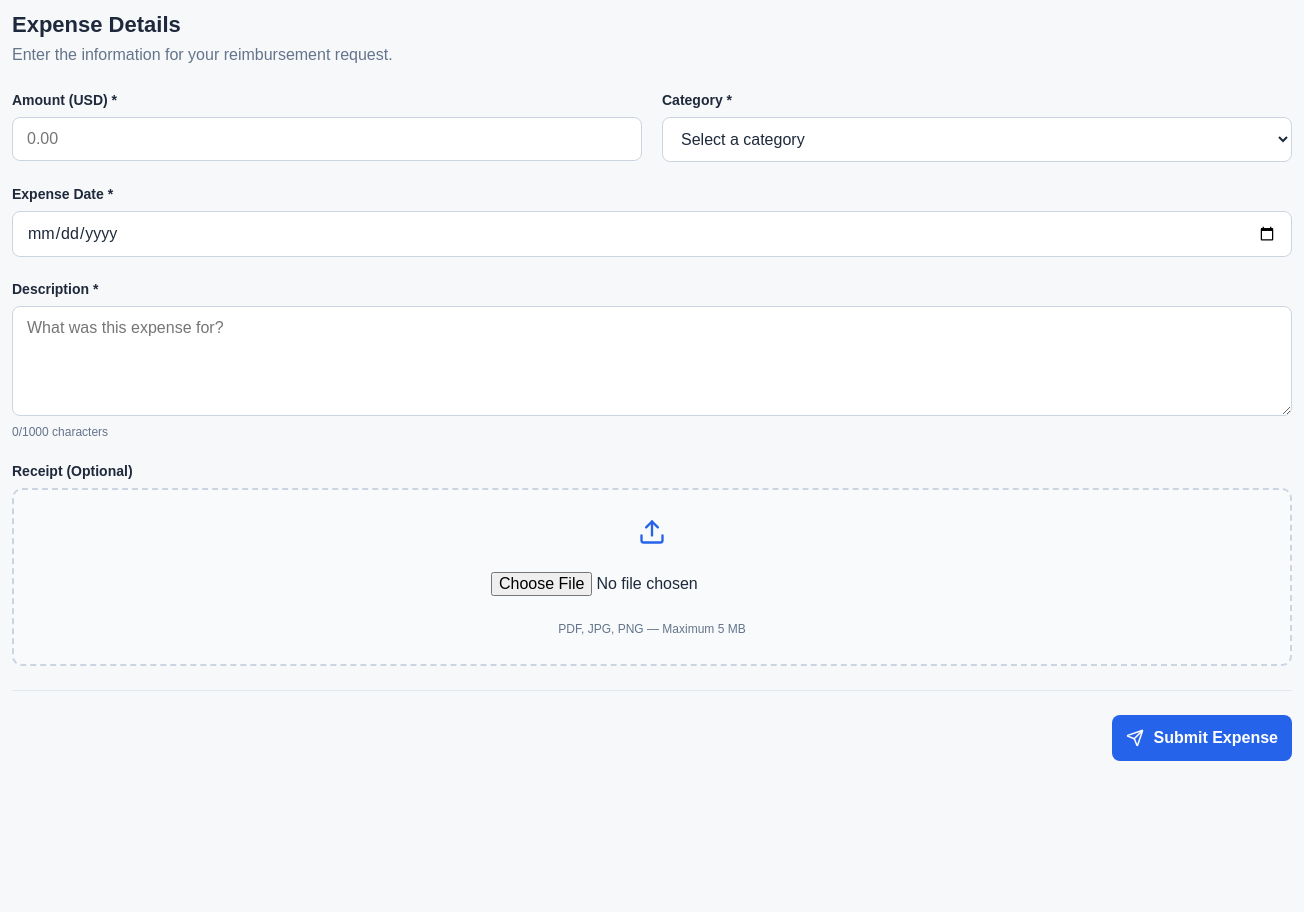
ExpenseForm › shows an error when the API rejects the submission
The image size is (1304, 912).
Type "25.50" into the number field labelled "Amount (USD) *" at {"x": 327, "y": 139}, box [12,117,642,161]
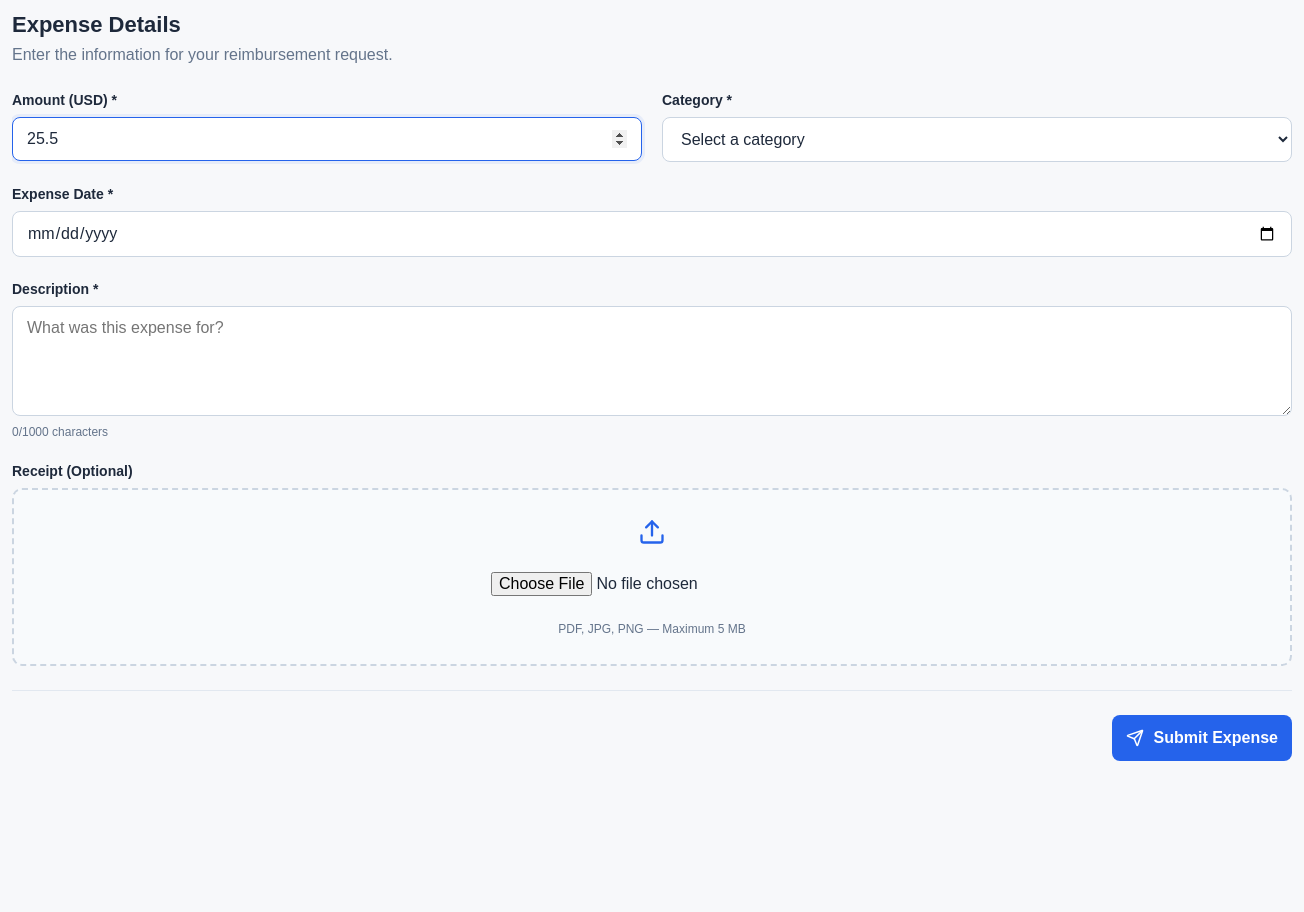
Select "Meals" in the dropdown labelled "Category *" at {"x": 977, "y": 140}, box [662,117,1292,162]
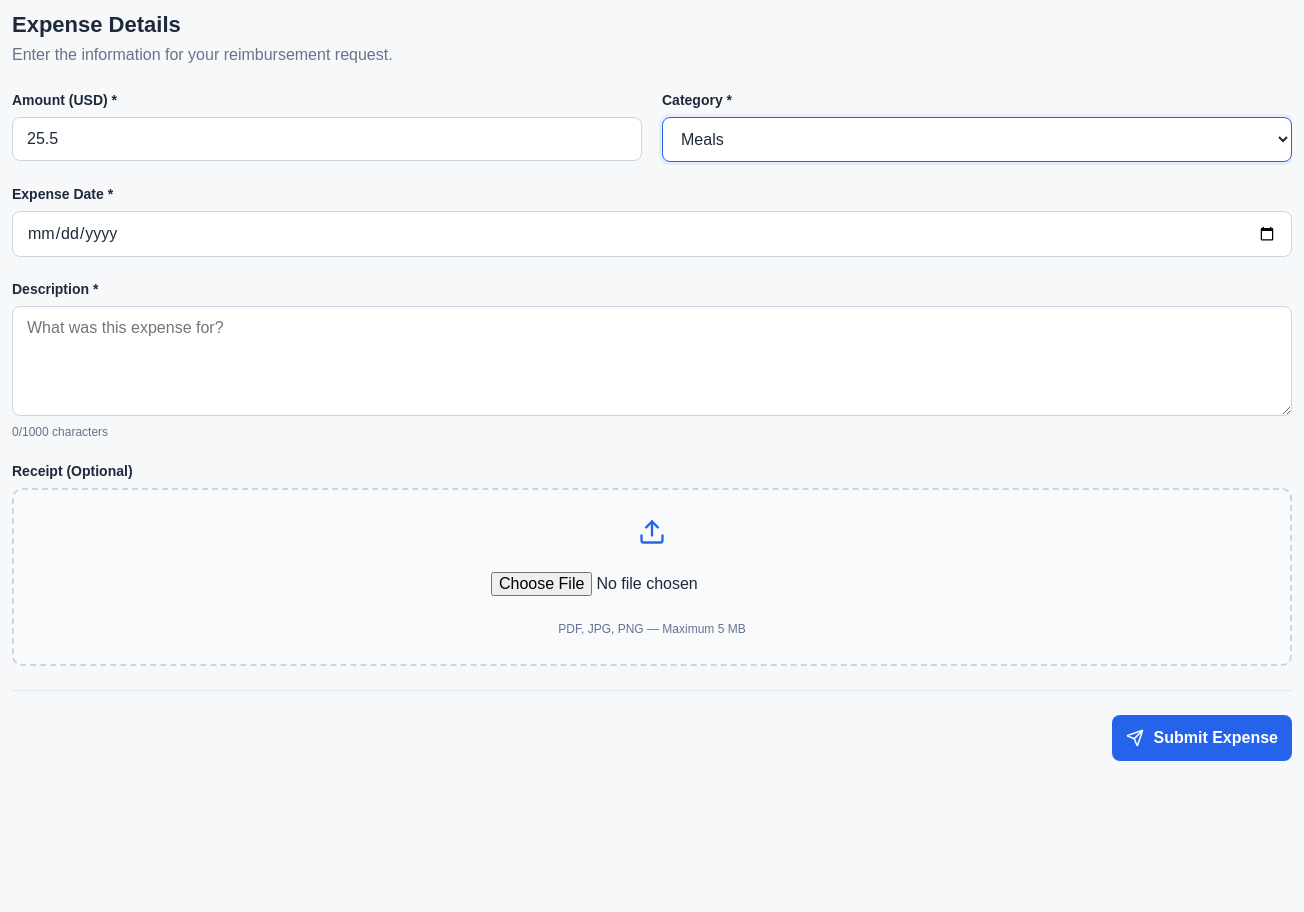
Type "2025-01-01" into the date field labelled "Expense Date *" at {"x": 652, "y": 234}, box [12,211,1292,257]
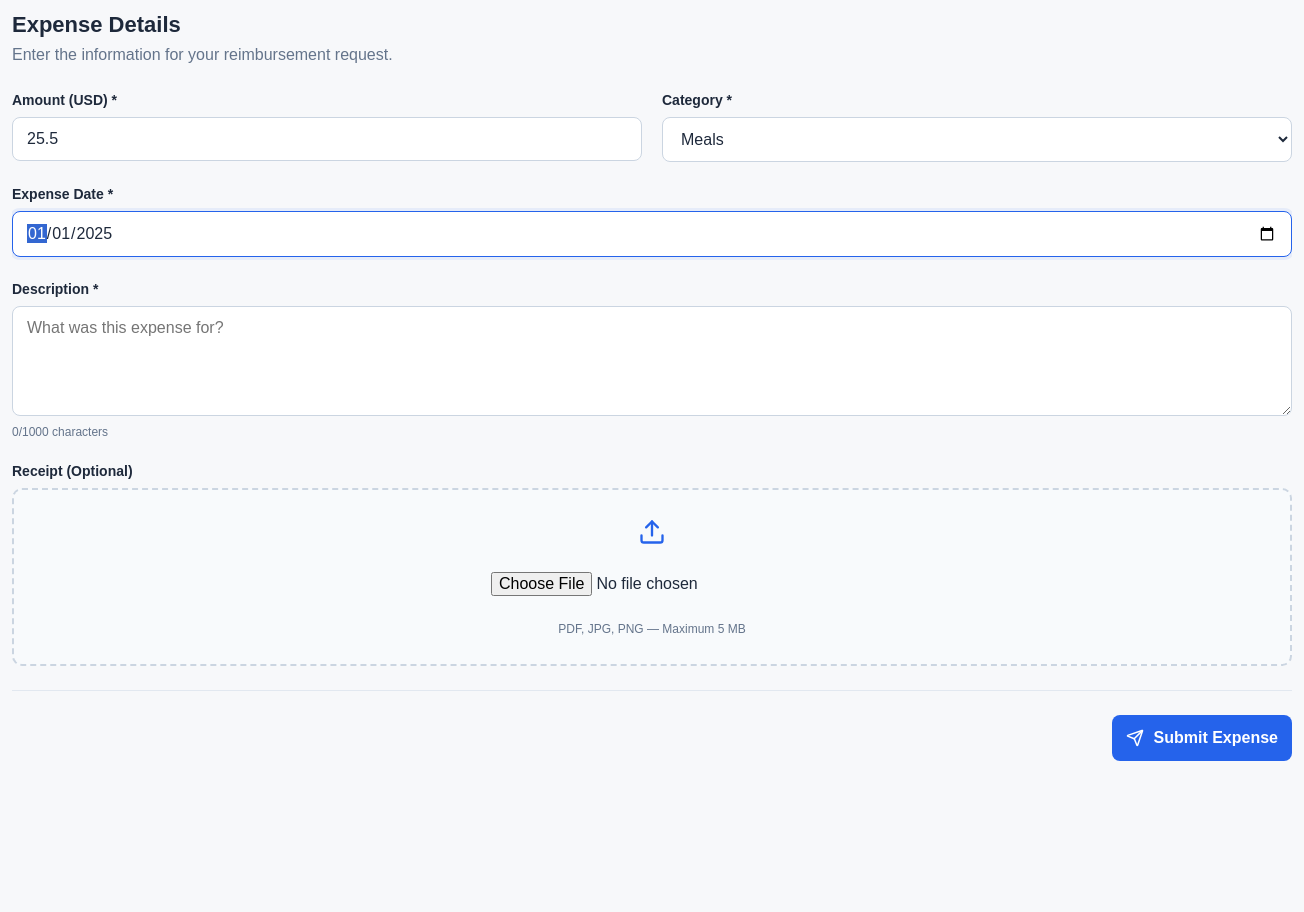
Type "Team lunch" into the text box labelled "Description *" at {"x": 652, "y": 361}, box [12,306,1292,416]
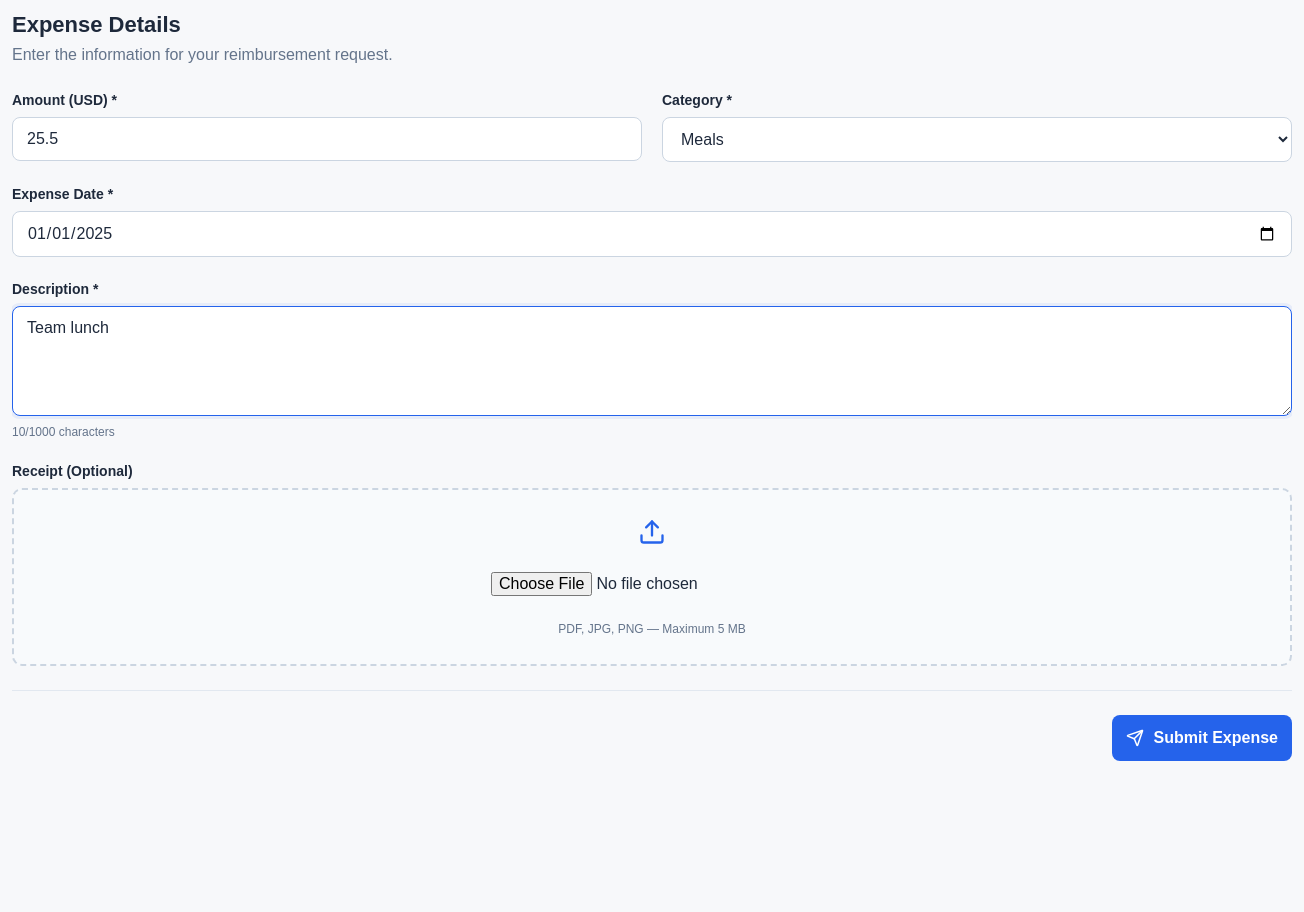
Click the button "Submit Expense" at {"x": 1202, "y": 738}, box [1112,715,1292,761]
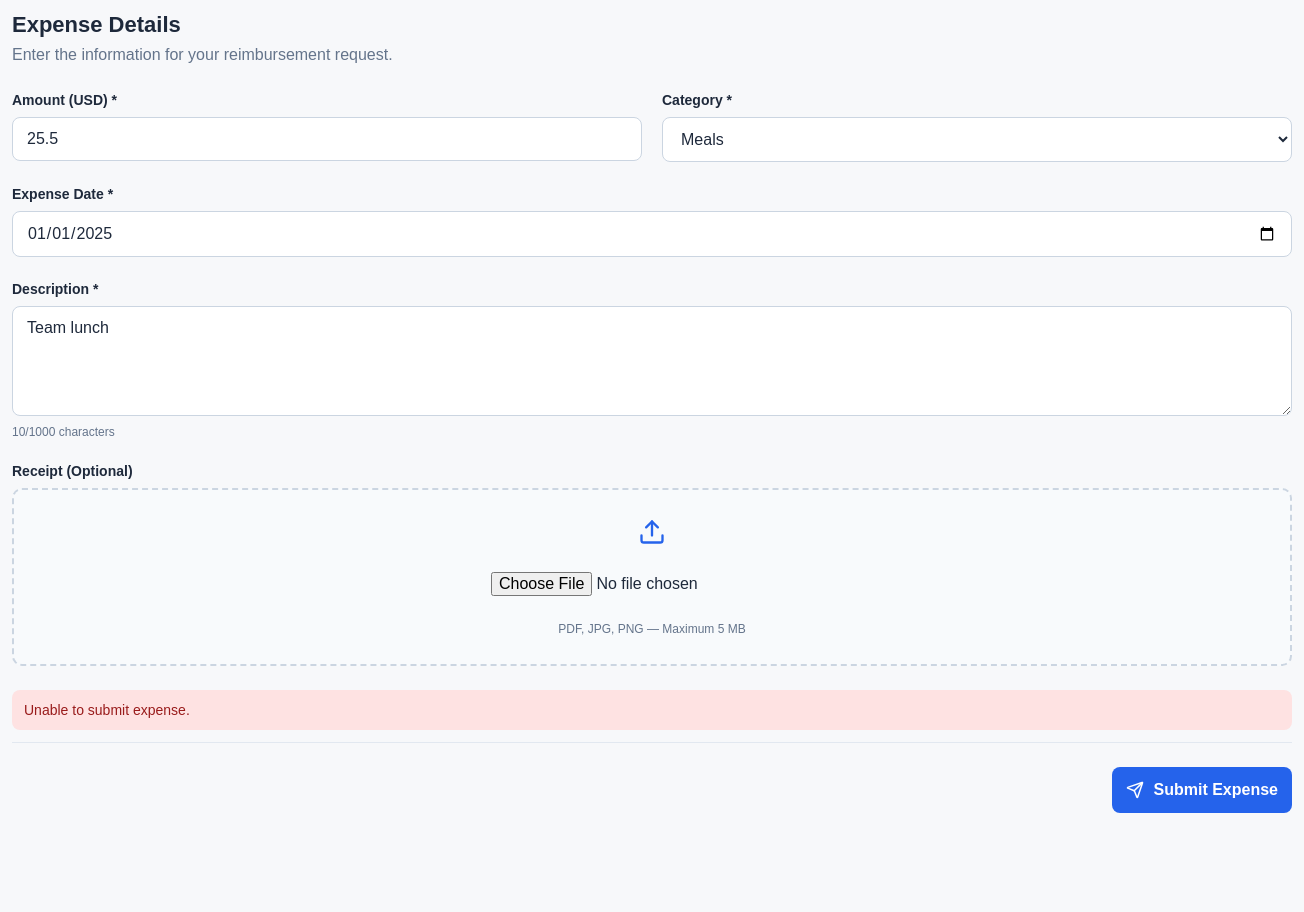
Expected: the message shows "Unable to submit expense", [24,702,190,718]
